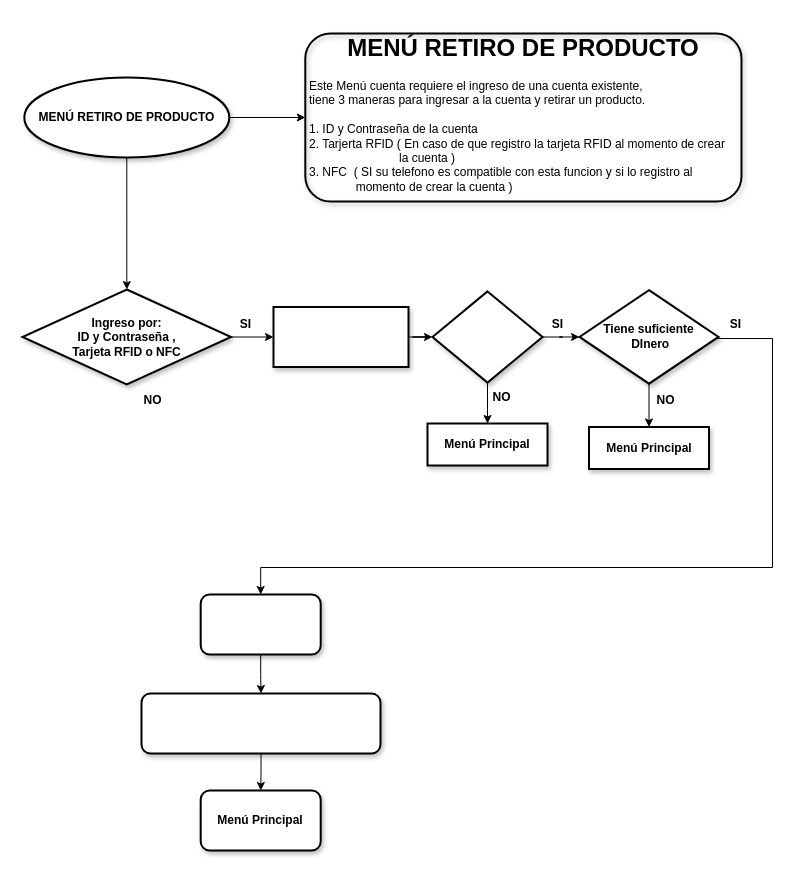
Image size: 798x875. Some labels were removed from this diagram. The shapes that lost their labels are listed below. From the top down, each one's centre as x and y in pixels, then its label:
pixel 341 338: Selección de producto y cantidad de producto
pixel 488 338: Tiene suficiente producto
pixel 261 625: Resta el total, a su saldo actual
pixel 261 724: Resta la cantidad de produco que se retiro de la maquina
